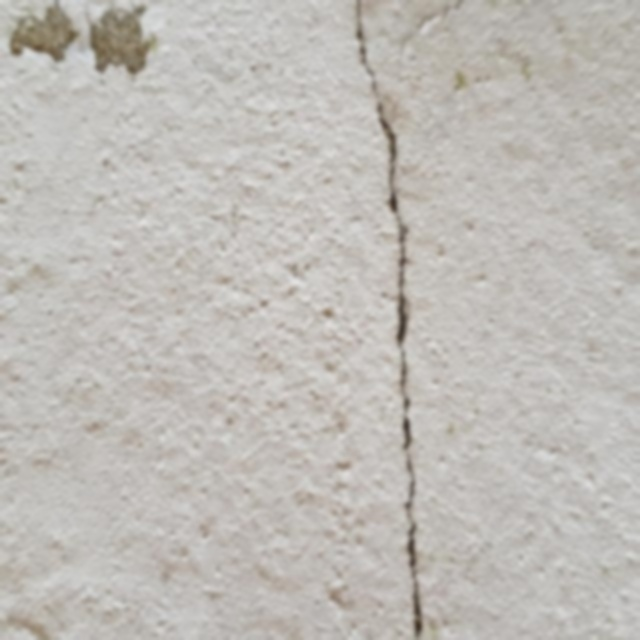SurfaceCrack: (319, 1, 471, 639)
